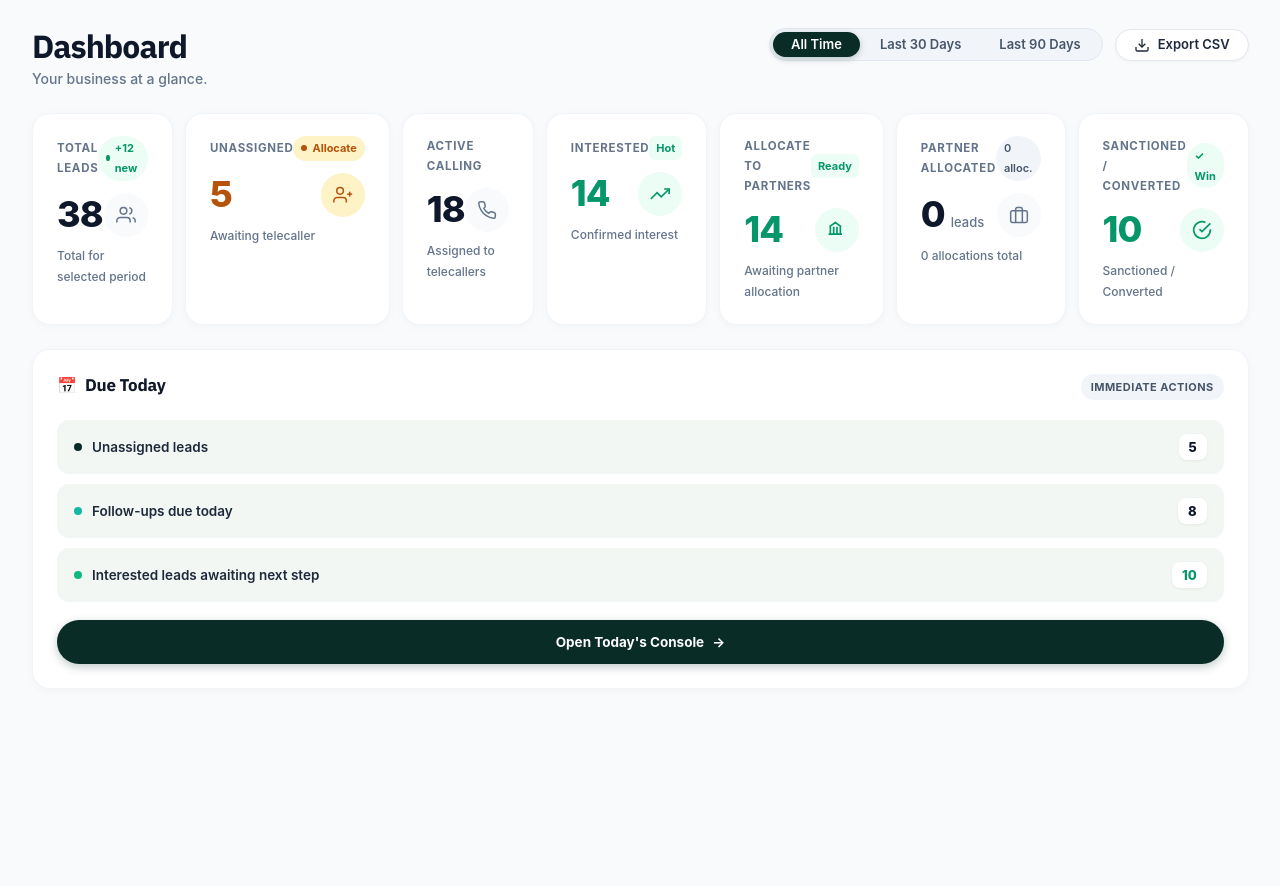
Test: DSA OS — Clickable Dashboard & Lead Management Journey › clicking Converted to Clients KPI navigates to /cases?view=converted
This screenshot has width=1280, height=886.
Expected: the 1st text "10" is shown, [1103,210,1142,250]
Step 1. Click the button with test id "kpi-converted" → click(1163, 219), box [1078,113,1249,325]
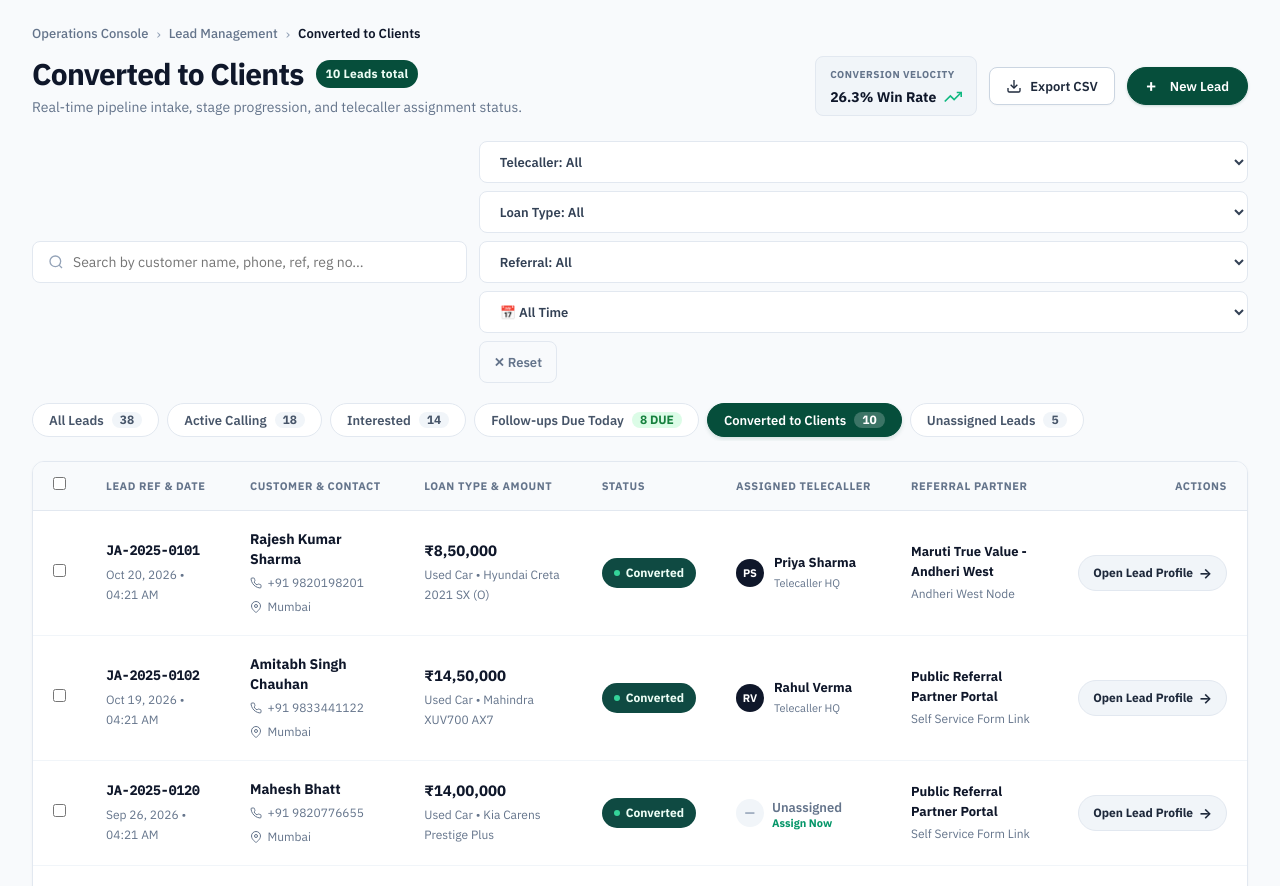
Now the heading "Converted to Clients" is shown, box [32,56,304,92]
Now the text "10 Leads total" is shown, box [316,60,418,88]
